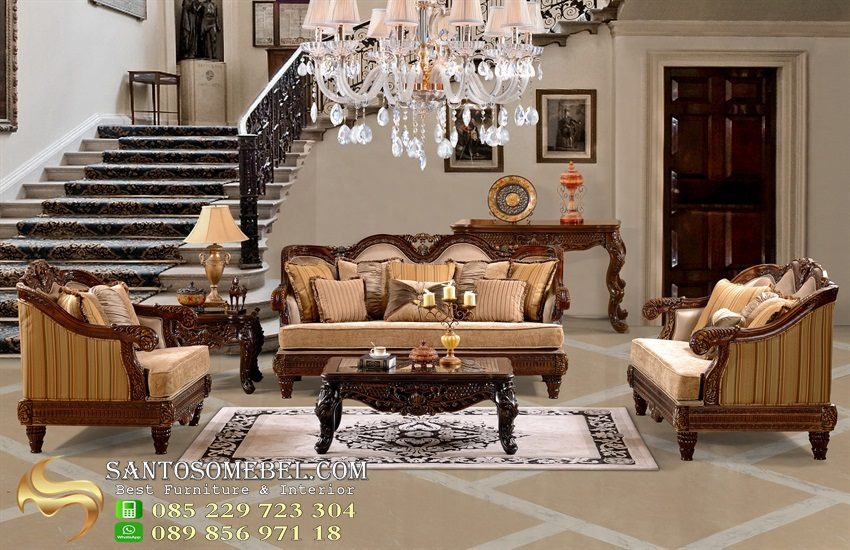Carving Chair: (631, 249, 845, 460), (18, 256, 220, 458)
Carving Table: (312, 354, 512, 456)
